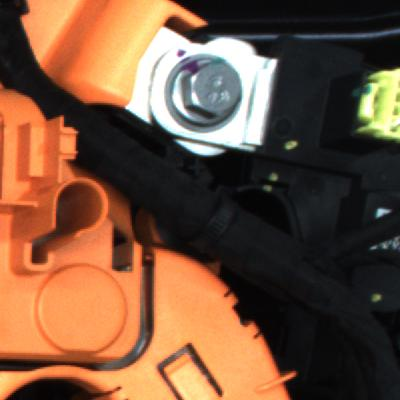nut_b: (161, 52, 261, 139)
